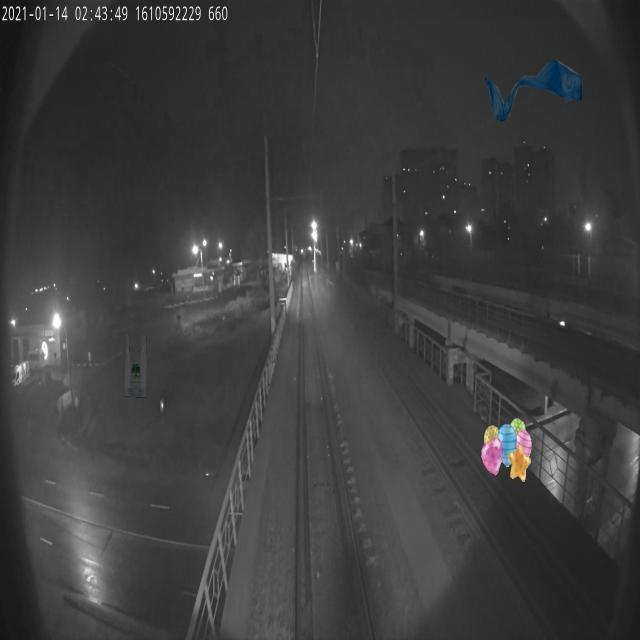balloon: (481, 418, 533, 482), (124, 333, 147, 398)
floating object: (485, 59, 583, 122)
